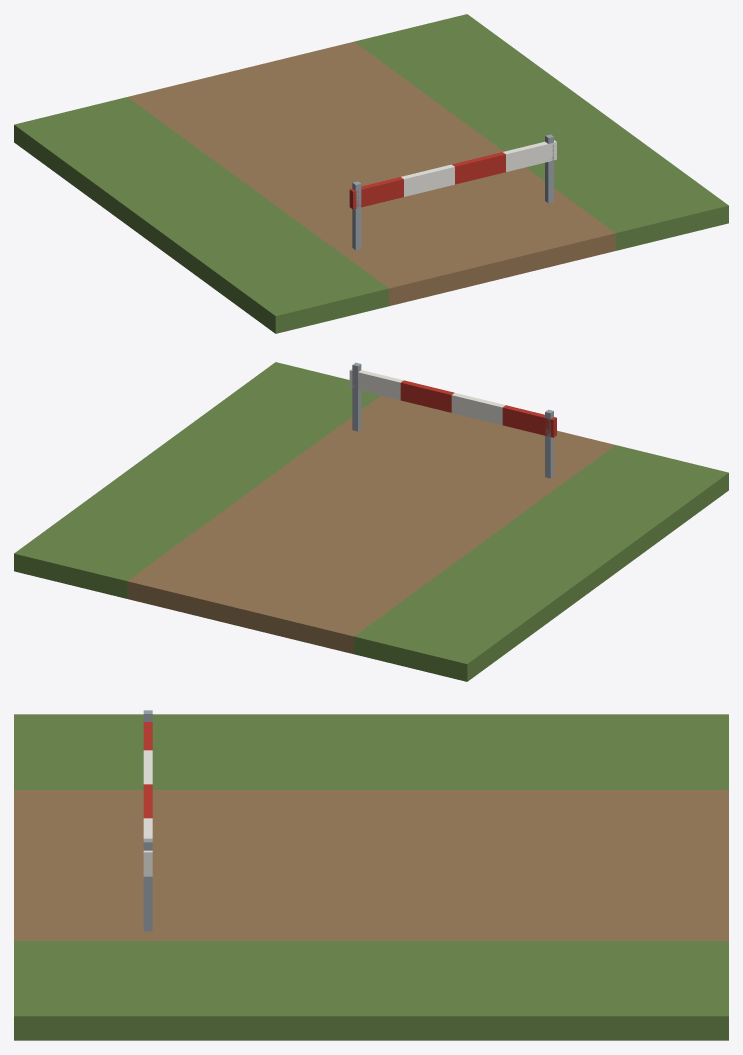
Rendered from Road_1Lane_Dirt_NoSidewalk_EndCap_Barrier.glb.
3 renders of one model, top to bottom at view 1: azimuth 30°, elevation 25°; view 2: azimuth 150°, elevation 25°; view 3: azimuth 270°, elevation 25°, orthographic. The views are drawn at different scales.
Visible parts, largest first — view 1: Road_1Lane_Dirt_NoSidewalk_EndCap_Barrier_Grass-edge, Road_1Lane_Dirt_NoSidewalk_EndCap_Barrier_Dirt, Road_1Lane_Dirt_NoSidewalk_EndCap_Barrier_SignRed, Road_1Lane_Dirt_NoSidewalk_EndCap_Barrier_PaintWhite, Road_1Lane_Dirt_NoSidewalk_EndCap_Barrier_Metal; view 2: Road_1Lane_Dirt_NoSidewalk_EndCap_Barrier_Grass-edge, Road_1Lane_Dirt_NoSidewalk_EndCap_Barrier_Dirt, Road_1Lane_Dirt_NoSidewalk_EndCap_Barrier_SignRed, Road_1Lane_Dirt_NoSidewalk_EndCap_Barrier_PaintWhite, Road_1Lane_Dirt_NoSidewalk_EndCap_Barrier_Metal; view 3: Road_1Lane_Dirt_NoSidewalk_EndCap_Barrier_Grass-edge, Road_1Lane_Dirt_NoSidewalk_EndCap_Barrier_Dirt, Road_1Lane_Dirt_NoSidewalk_EndCap_Barrier_PaintWhite, Road_1Lane_Dirt_NoSidewalk_EndCap_Barrier_Metal, Road_1Lane_Dirt_NoSidewalk_EndCap_Barrier_SignRed.
Boxes of the visible parts, box(x1,y1,x2,y2) form: Road_1Lane_Dirt_NoSidewalk_EndCap_Barrier_Grass-edge: box(14, 14, 728, 333); Road_1Lane_Dirt_NoSidewalk_EndCap_Barrier_Dirt: box(128, 41, 615, 306); Road_1Lane_Dirt_NoSidewalk_EndCap_Barrier_SignRed: box(349, 152, 505, 209); Road_1Lane_Dirt_NoSidewalk_EndCap_Barrier_PaintWhite: box(401, 140, 556, 196); Road_1Lane_Dirt_NoSidewalk_EndCap_Barrier_Metal: box(352, 134, 553, 250); Road_1Lane_Dirt_NoSidewalk_EndCap_Barrier_Grass-edge: box(14, 362, 728, 681); Road_1Lane_Dirt_NoSidewalk_EndCap_Barrier_Dirt: box(127, 395, 614, 654); Road_1Lane_Dirt_NoSidewalk_EndCap_Barrier_SignRed: box(400, 380, 556, 437); Road_1Lane_Dirt_NoSidewalk_EndCap_Barrier_PaintWhite: box(349, 368, 505, 425); Road_1Lane_Dirt_NoSidewalk_EndCap_Barrier_Metal: box(352, 362, 553, 478); Road_1Lane_Dirt_NoSidewalk_EndCap_Barrier_Grass-edge: box(14, 714, 728, 1040); Road_1Lane_Dirt_NoSidewalk_EndCap_Barrier_Dirt: box(14, 790, 728, 940); Road_1Lane_Dirt_NoSidewalk_EndCap_Barrier_PaintWhite: box(143, 750, 152, 876); Road_1Lane_Dirt_NoSidewalk_EndCap_Barrier_Metal: box(143, 710, 152, 931); Road_1Lane_Dirt_NoSidewalk_EndCap_Barrier_SignRed: box(143, 722, 152, 818).
Bounding box in the file's own units: 8 × 1.4 × 8.
